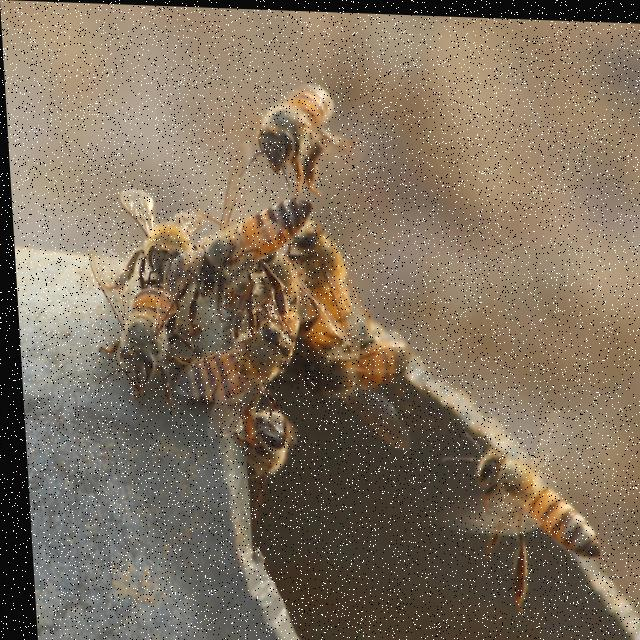Apis-mellifera-scutellata: (436, 397, 614, 613), (164, 298, 295, 421), (249, 65, 361, 200), (183, 195, 320, 301), (87, 265, 185, 394), (109, 181, 217, 295), (295, 205, 369, 365), (286, 337, 429, 408), (213, 394, 299, 472)
